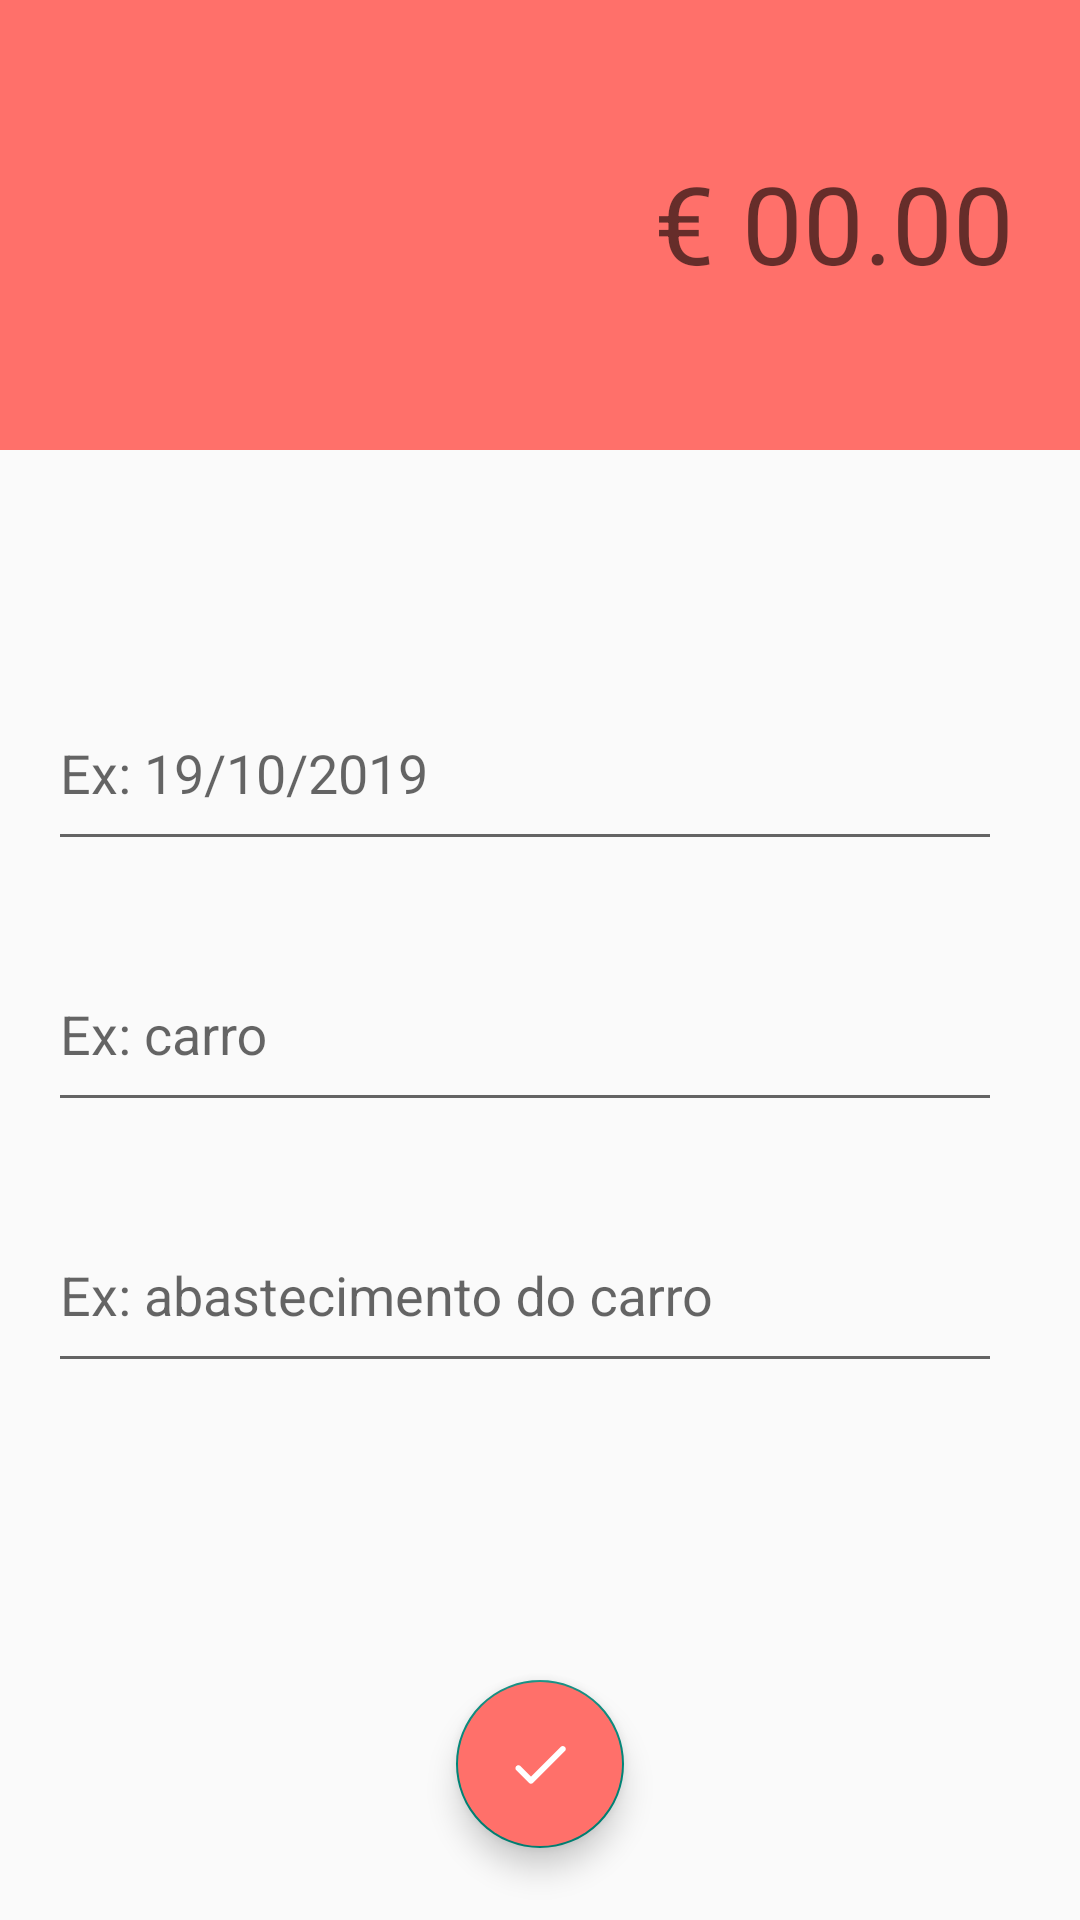

Icon click points for this 1080*1920 phone screenshot, format (x=x, y=y):
done: (x=540, y=1764)
